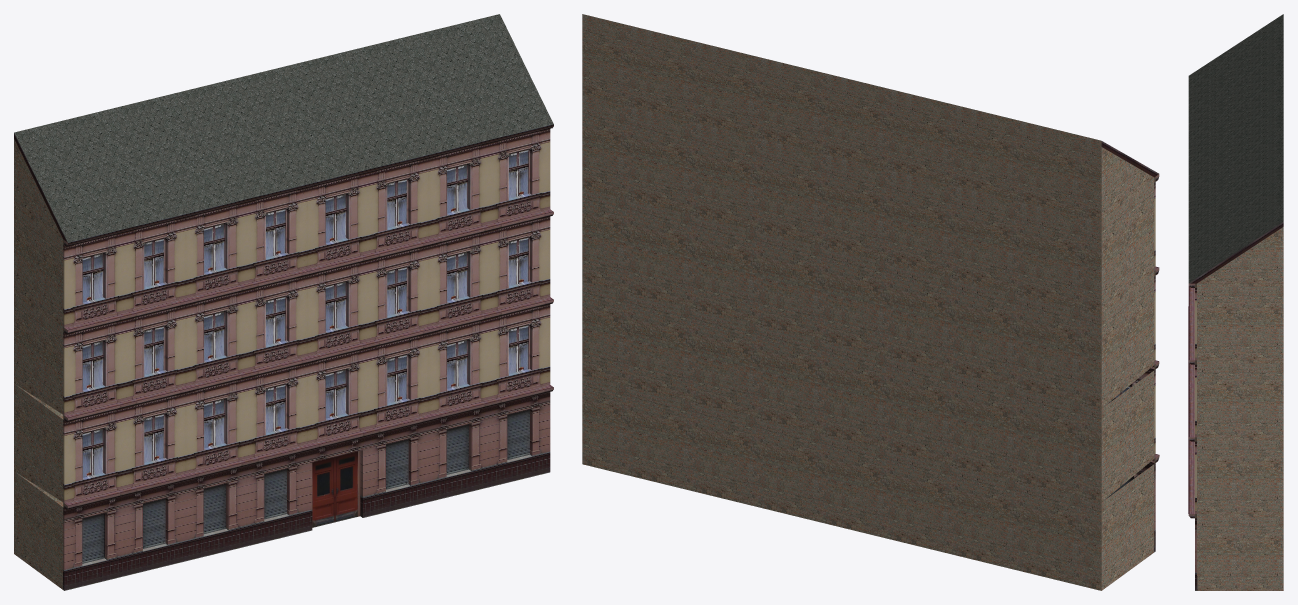
File: PBP1_Building4.fbx
The picture shows the model from 3 angles, left to right: view 1: azimuth 30°, elevation 25°; view 2: azimuth 150°, elevation 25°; view 3: azimuth 270°, elevation 25°; orthographic projection. The views are drawn at different scales.
Visible parts, largest first — view 1: PBP1_Building4; view 2: PBP1_Building4; view 3: PBP1_Building4.
Part boxes in pixels (bbox=[...]): PBP1_Building4: bbox=[14, 14, 553, 590]; PBP1_Building4: bbox=[582, 14, 1159, 590]; PBP1_Building4: bbox=[1188, 14, 1283, 590].
Size of the model in its own units: 375 by 1942 by 1609.
